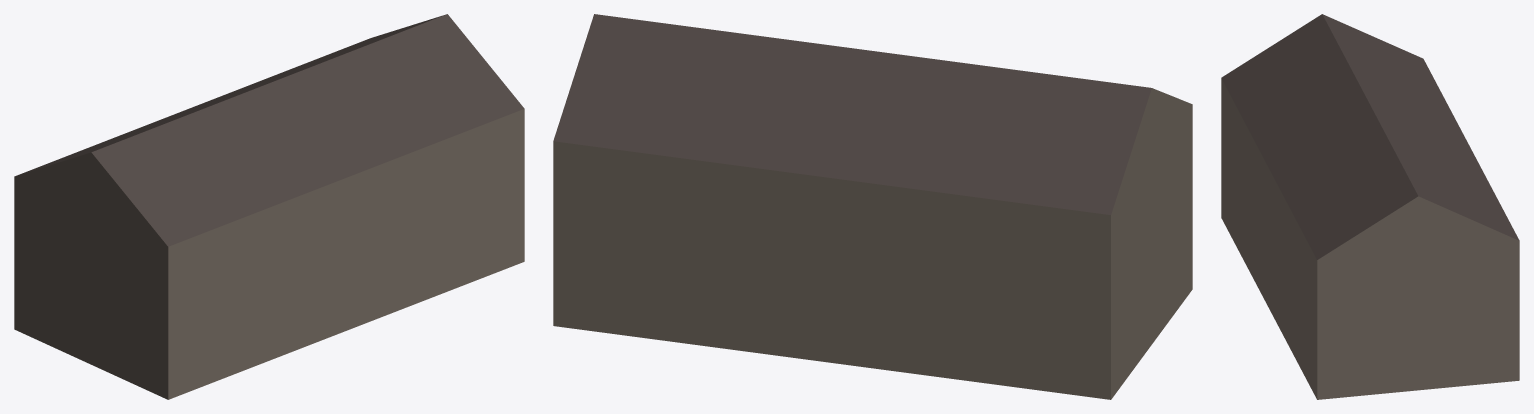
The picture shows the model from 3 angles, left to right: view 1: azimuth 30°, elevation 25°; view 2: azimuth 150°, elevation 25°; view 3: azimuth 270°, elevation 25°; orthographic projection. The views are drawn at different scales.
Parts seen in each view (by area): view 1: HP-w1200750008; view 2: HP-w1200750008; view 3: HP-w1200750008.
Part boxes in pixels (<box>): HP-w1200750008: <box>14,14,524,399</box>; HP-w1200750008: <box>553,14,1192,399</box>; HP-w1200750008: <box>1221,14,1519,399</box>.
Size of the model in its own units: 18.56 by 8.33 by 11.62.
